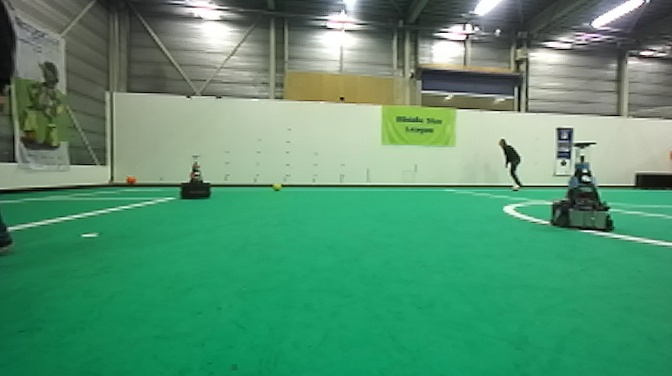ball: (121, 173, 140, 188), (271, 179, 285, 194), (510, 182, 522, 194)
human: (492, 133, 526, 190)
robot: (549, 139, 616, 232), (177, 153, 215, 201)
